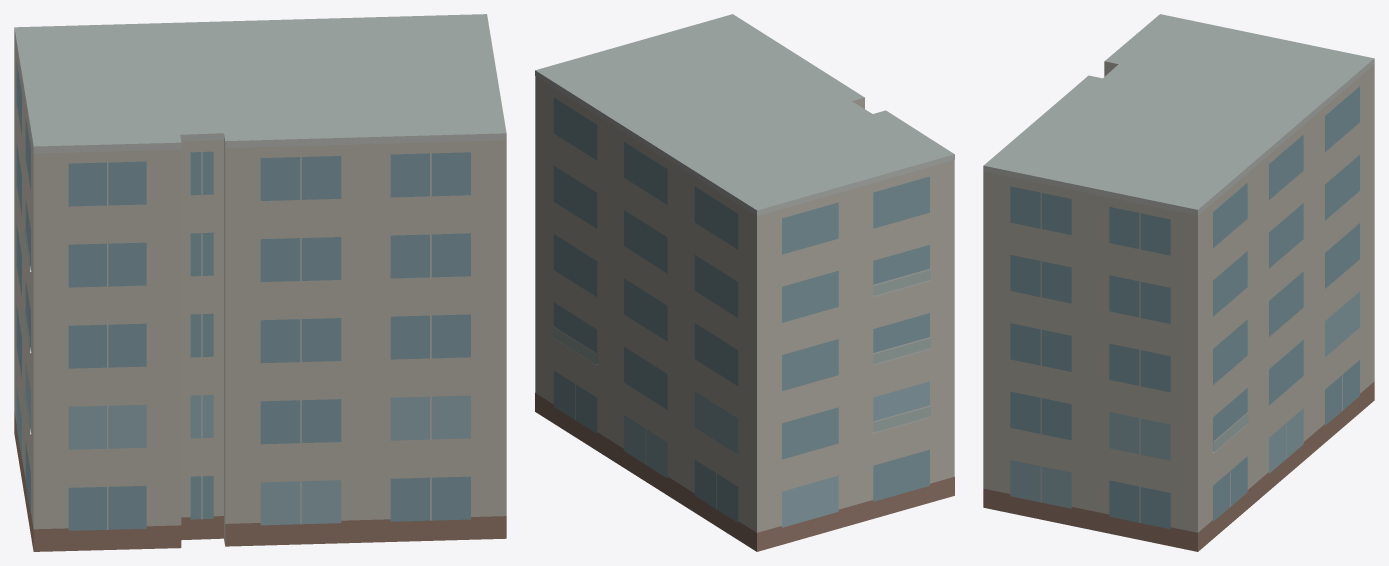
The model's file is survey-upis-32852734.glb.
3 views of the same model, side by side, from view 1: azimuth 30°, elevation 25°; view 2: azimuth 150°, elevation 25°; view 3: azimuth 270°, elevation 25° (orthographic). The views are drawn at different scales.
Visible parts, largest first — view 1: survey-upis-32852734.tmp; view 2: survey-upis-32852734.tmp; view 3: survey-upis-32852734.tmp.
Boxes of the visible parts, x1=… form: survey-upis-32852734.tmp: x1=14, y1=14, x2=506, y2=551; survey-upis-32852734.tmp: x1=535, y1=14, x2=954, y2=551; survey-upis-32852734.tmp: x1=983, y1=14, x2=1374, y2=551.
Size of the model in its own units: 17.63 by 14.35 by 14.88.
